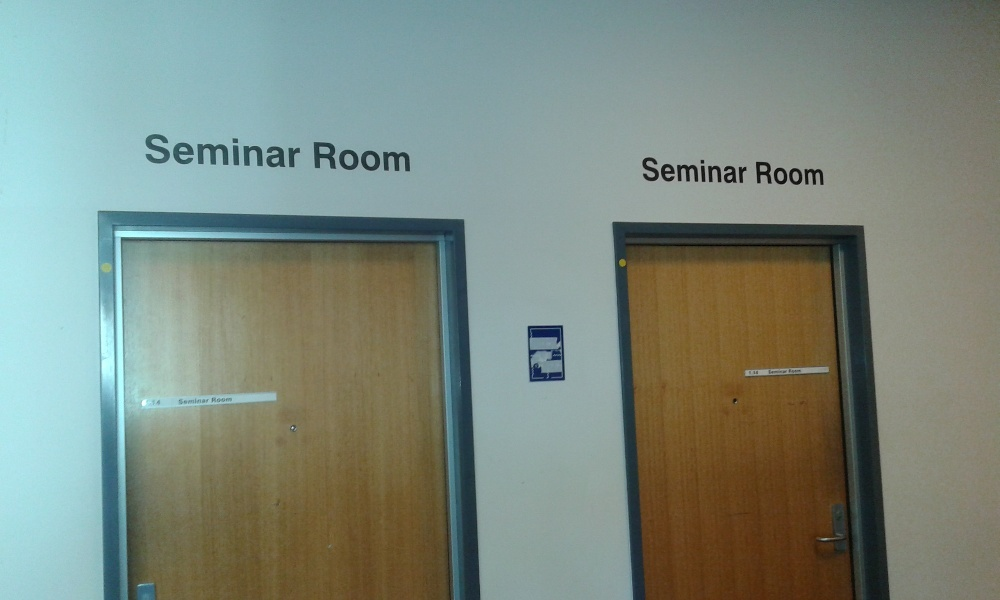text: (145, 134, 160, 170), (161, 134, 176, 170), (177, 134, 192, 170), (193, 134, 208, 170), (209, 134, 224, 170), (225, 134, 240, 170), (241, 134, 256, 170), (257, 134, 272, 170), (273, 134, 288, 170), (321, 140, 336, 174), (337, 140, 352, 174), (353, 140, 368, 174), (369, 140, 384, 174), (385, 140, 400, 174), (641, 155, 656, 185), (657, 155, 672, 185), (673, 155, 688, 185), (689, 155, 704, 185), (705, 155, 720, 185), (721, 155, 736, 185), (289, 134, 301, 170), (753, 159, 768, 187), (769, 159, 784, 187), (785, 159, 800, 187), (801, 159, 816, 187), (401, 140, 412, 174), (737, 155, 748, 185), (817, 159, 828, 187), (311, 140, 320, 174), (193, 398, 208, 406), (178, 398, 192, 406), (149, 399, 160, 407), (212, 397, 224, 403), (769, 370, 784, 374), (788, 369, 800, 374), (225, 397, 233, 403), (753, 370, 759, 375), (161, 399, 164, 407), (748, 370, 752, 375), (209, 398, 210, 406), (785, 370, 787, 374), (801, 369, 802, 374)
